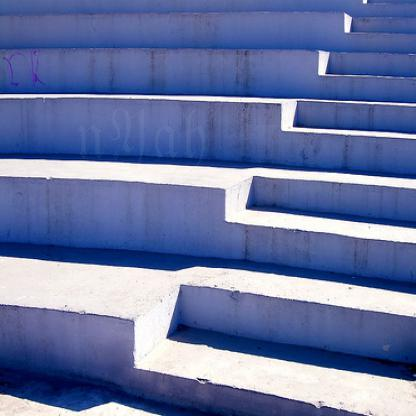stairs: (255, 163, 414, 381)
